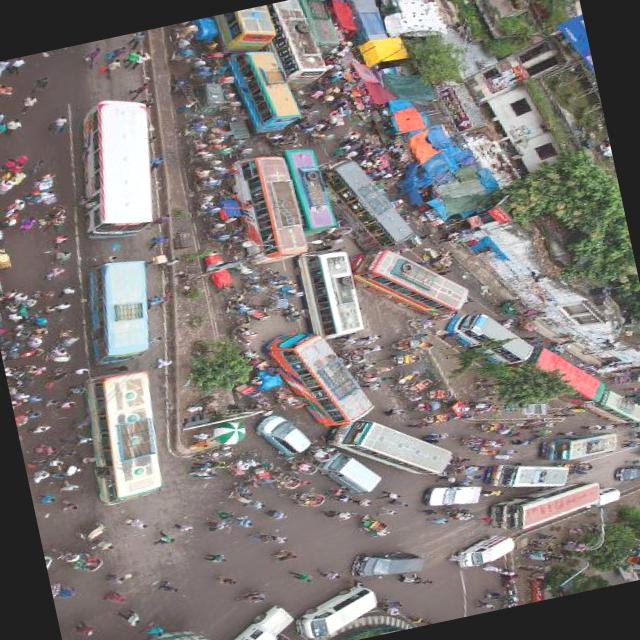bus: (61, 93, 176, 247), (69, 362, 181, 512), (68, 250, 174, 373), (354, 234, 476, 335), (272, 324, 363, 436), (342, 406, 462, 490), (326, 150, 414, 257), (232, 150, 308, 266), (227, 43, 304, 139), (486, 481, 606, 536), (448, 306, 538, 376), (532, 338, 612, 416), (306, 245, 368, 342), (285, 144, 341, 238), (270, 0, 329, 88), (211, 5, 280, 58), (491, 460, 574, 500), (540, 426, 622, 466), (458, 531, 522, 572), (609, 508, 640, 583), (307, 0, 342, 51), (603, 385, 640, 429), (127, 625, 226, 640)
car: (254, 407, 315, 463), (611, 461, 640, 486)
motorcycle: (51, 538, 107, 582), (38, 325, 84, 367), (277, 484, 330, 516), (249, 443, 281, 488), (194, 78, 230, 118), (225, 312, 263, 349), (80, 520, 118, 556), (185, 160, 224, 195), (199, 213, 235, 246), (377, 348, 425, 372), (216, 286, 252, 318), (187, 191, 225, 221), (409, 408, 456, 432), (448, 429, 490, 455), (182, 136, 218, 166), (274, 391, 313, 418), (220, 482, 256, 511), (222, 446, 254, 478), (176, 111, 211, 140), (356, 510, 391, 538), (468, 416, 508, 440), (227, 248, 257, 280), (238, 346, 272, 374), (281, 270, 310, 302), (441, 502, 476, 528), (164, 21, 202, 44), (355, 357, 382, 388), (232, 376, 264, 402), (243, 270, 272, 298), (406, 397, 446, 417), (384, 334, 424, 354), (266, 130, 302, 152), (306, 128, 340, 148), (275, 472, 307, 493), (250, 299, 274, 326), (222, 144, 258, 162), (170, 44, 198, 66), (391, 366, 425, 384), (425, 386, 458, 404), (264, 295, 293, 315), (253, 394, 277, 418), (188, 66, 216, 86), (214, 117, 238, 140), (222, 235, 254, 252), (197, 46, 227, 64), (316, 232, 346, 250), (216, 70, 241, 89), (408, 379, 436, 395), (574, 457, 598, 475), (314, 444, 334, 464), (289, 302, 307, 324), (608, 373, 634, 388), (350, 346, 370, 365), (219, 143, 238, 159), (226, 98, 246, 113), (625, 426, 640, 445), (424, 336, 438, 354), (296, 122, 317, 134), (633, 445, 640, 460)
truck: (292, 582, 384, 640), (316, 444, 387, 504), (349, 540, 432, 588), (209, 602, 304, 640), (422, 476, 488, 516), (598, 484, 626, 508)
